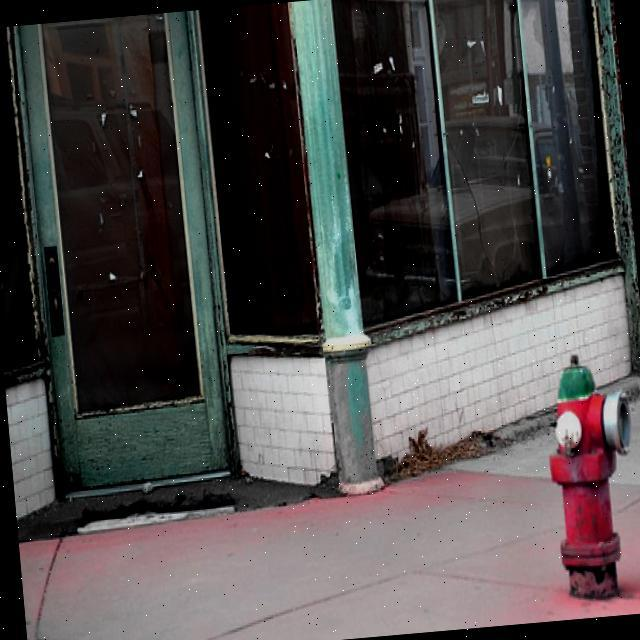fire_hydrant: (538, 344, 640, 599)
